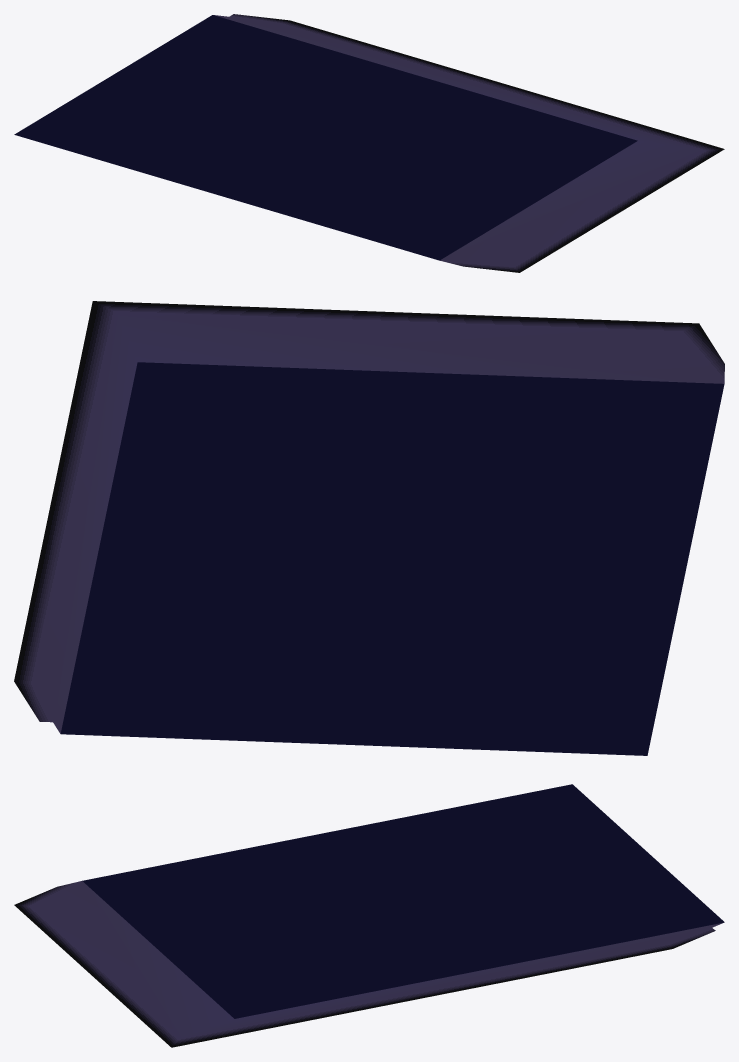
3 renders of one model, top to bottom at view 1: azimuth 30°, elevation 25°; view 2: azimuth 150°, elevation 25°; view 3: azimuth 270°, elevation 25°, orthographic. The views are drawn at different scales.
Visible parts, largest first — view 1: Joint_0_Object_0; view 2: Joint_0_Object_0; view 3: Joint_0_Object_0.
Boxes of the visible parts, x1,y1,x2,y2 form: Joint_0_Object_0: (14, 14, 724, 272); Joint_0_Object_0: (14, 301, 724, 755); Joint_0_Object_0: (14, 784, 724, 1047).
Bounding box in the file's own units: 1037 × 0 × 1183.
Materials: 1 (1 with a texture image).
